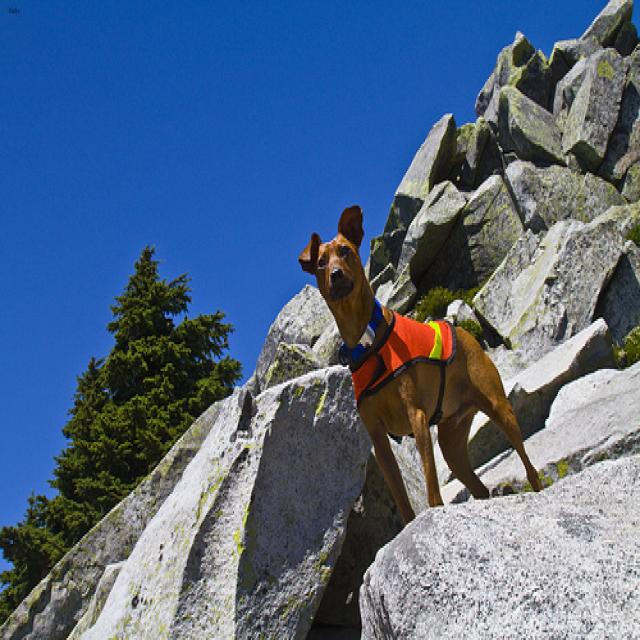dog-miniature_pinscher: (293, 198, 549, 532)
